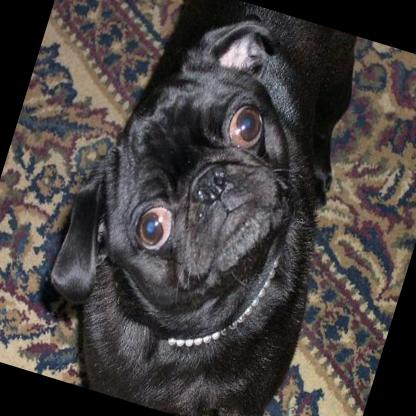pug: (20, 0, 387, 416)
